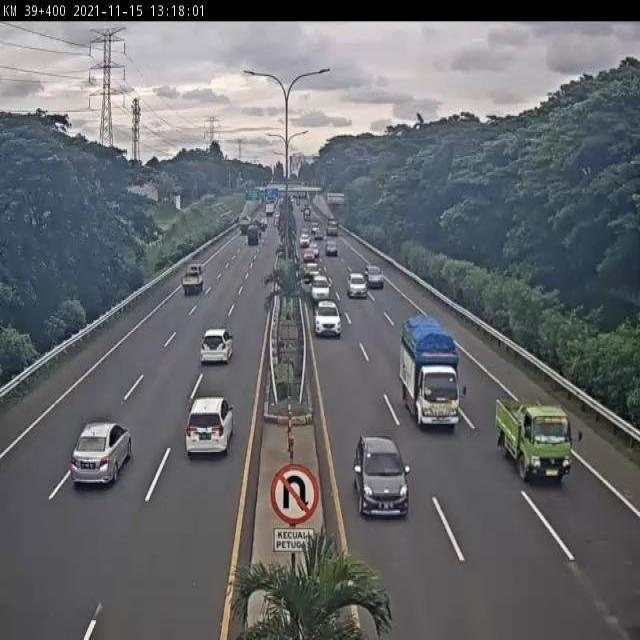Car: (489, 390, 585, 490), (397, 308, 469, 435), (354, 431, 413, 528), (66, 421, 137, 491), (184, 390, 237, 459), (306, 299, 350, 345), (198, 324, 239, 366), (364, 259, 391, 300), (344, 264, 370, 303), (182, 260, 207, 294), (310, 274, 333, 308), (242, 221, 265, 251), (294, 221, 316, 249), (236, 209, 256, 238), (324, 214, 343, 242), (325, 240, 343, 261), (304, 262, 321, 282), (256, 216, 270, 237), (302, 250, 318, 265), (264, 201, 275, 217), (310, 220, 320, 235), (303, 207, 312, 220), (272, 213, 280, 226), (314, 230, 324, 240)
